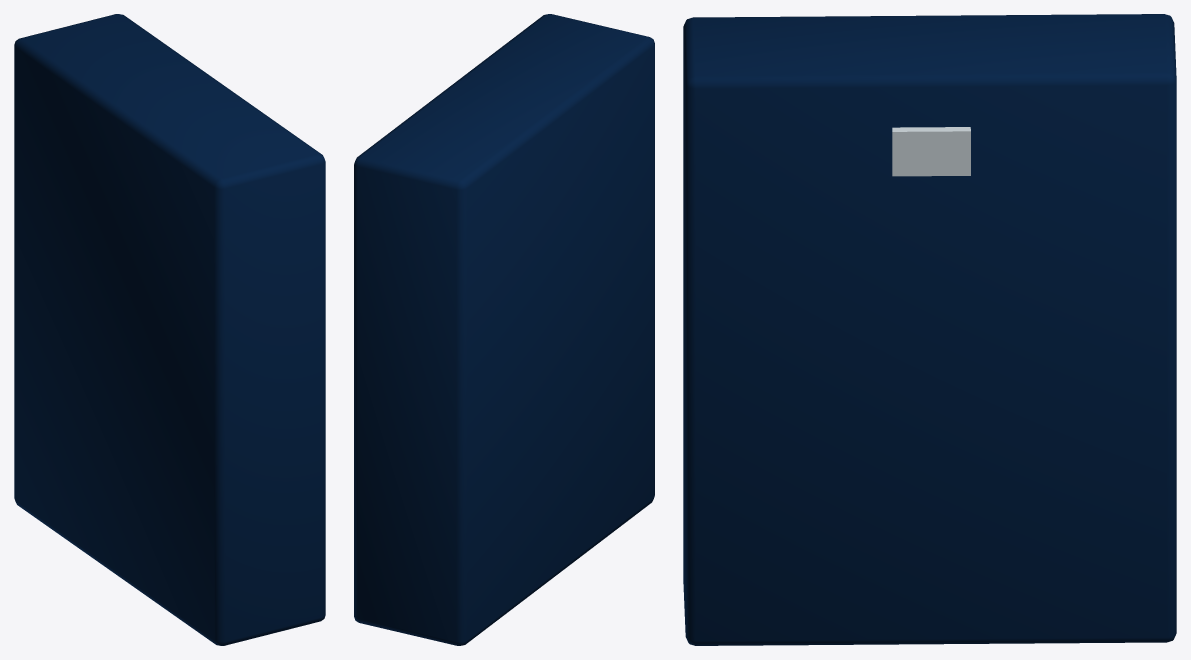
File: SM_Env_FileFolders.fbx
The picture shows the model from 3 angles, left to right: view 1: azimuth 30°, elevation 25°; view 2: azimuth 150°, elevation 25°; view 3: azimuth 270°, elevation 25°; orthographic projection. The views are drawn at different scales.
Parts seen in each view (by area): view 1: FileFolder 01; view 2: FileFolder 01; view 3: FileFolder 01.
Part boxes in pixels (bbox=[...]): FileFolder 01: bbox=[14, 14, 325, 645]; FileFolder 01: bbox=[354, 14, 654, 645]; FileFolder 01: bbox=[683, 14, 1176, 645].
Bounding box in the file's own units: 0.0746 × 0.272 × 0.2135.
